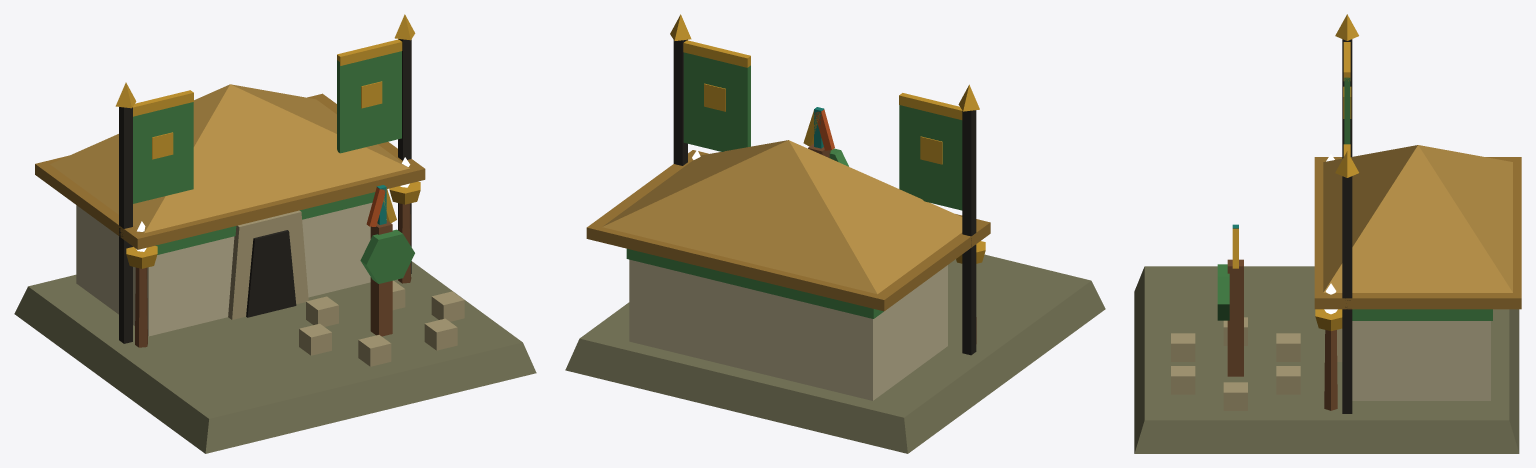
File: camp_ranger_t2.glb
The picture shows the model from 3 angles, left to right: view 1: azimuth 30°, elevation 25°; view 2: azimuth 150°, elevation 25°; view 3: azimuth 270°, elevation 25°; orthographic projection. The views are drawn at different scales.
Visible parts, largest first — view 1: body; view 2: body; view 3: body.
Part boxes in pixels (x1,y1,x2,y2): body: (14, 14, 536, 453); body: (565, 14, 1105, 453); body: (1134, 14, 1521, 453).
Size of the model in its own units: 1.9 by 1.58 by 1.91.
